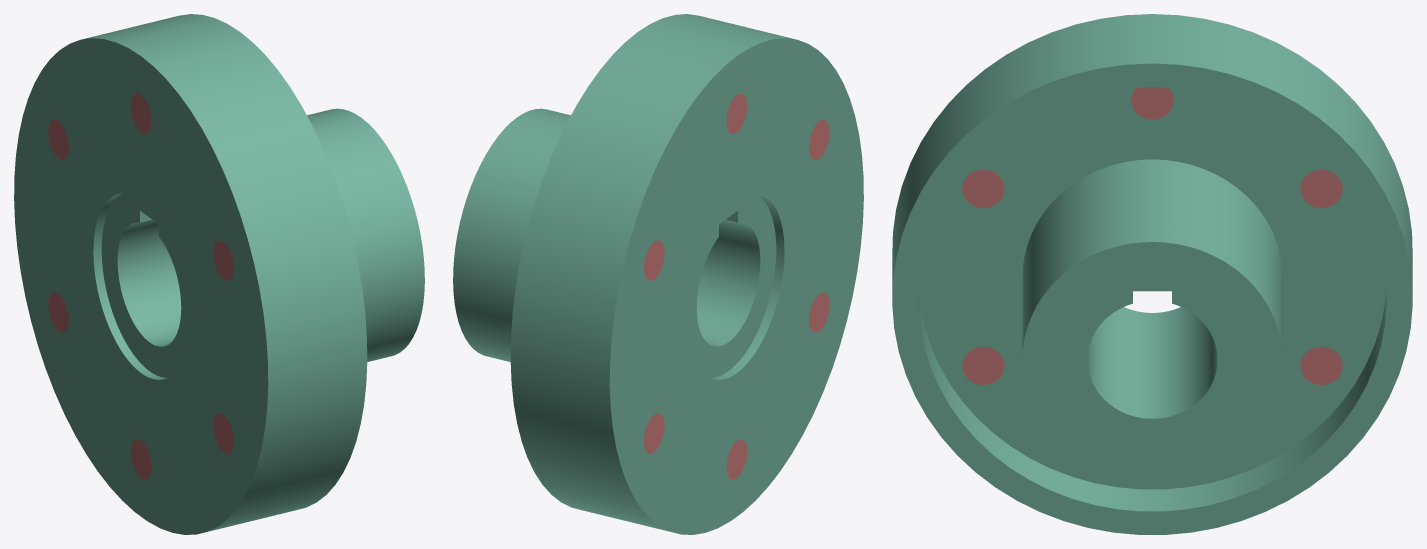
File: step_11.glb
3 renders of one model, left to right at view 1: azimuth 30°, elevation 25°; view 2: azimuth 150°, elevation 25°; view 3: azimuth 270°, elevation 25°, orthographic. The views are drawn at different scales.
Parts seen in each view (by area): view 1: part__flange B (recess), removed__flange B (recess); view 2: part__flange B (recess), removed__flange B (recess); view 3: part__flange B (recess), removed__flange B (recess).
Boxes of the visible parts, <box> form: part__flange B (recess): <box>14,14,424,534</box>; removed__flange B (recess): <box>48,93,233,479</box>; part__flange B (recess): <box>453,14,863,534</box>; removed__flange B (recess): <box>644,93,829,479</box>; part__flange B (recess): <box>892,14,1412,534</box>; removed__flange B (recess): <box>962,87,1342,384</box>.
Size of the model in its own units: 80 by 160 by 160.
